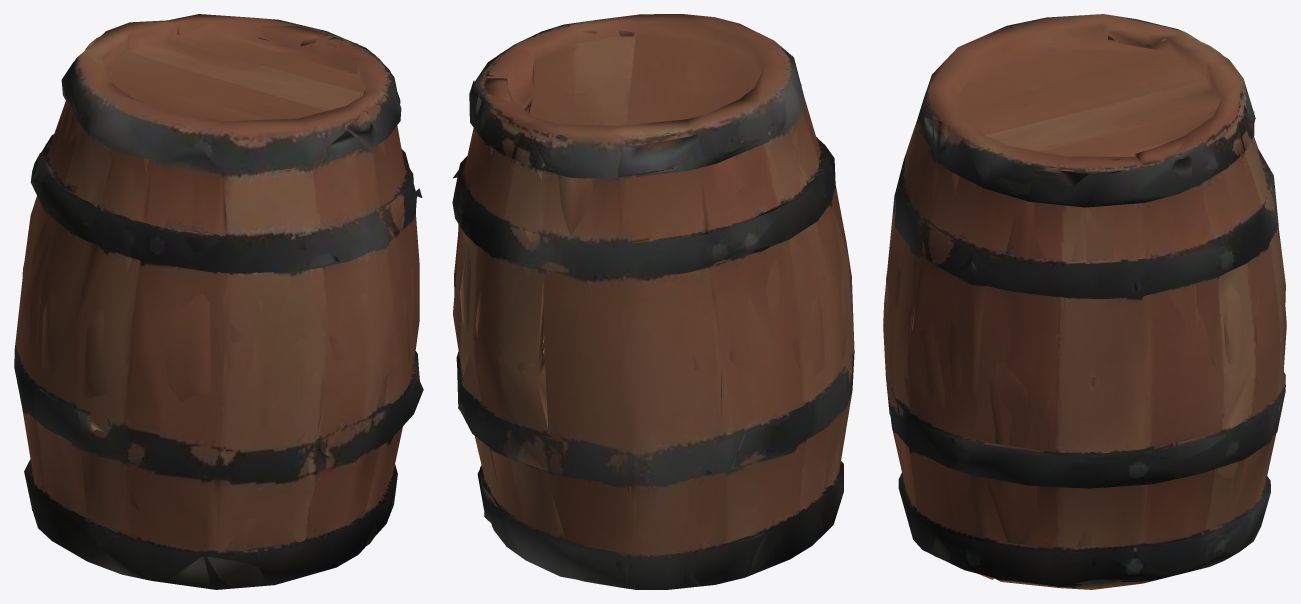
File: barrel.glb
The picture shows the model from 3 angles, left to right: view 1: azimuth 30°, elevation 25°; view 2: azimuth 150°, elevation 25°; view 3: azimuth 270°, elevation 25°; orthographic projection.
Bounding box in the file's own units: 0.7279 × 0.9 × 0.7254.
1 material, 1 textured.
